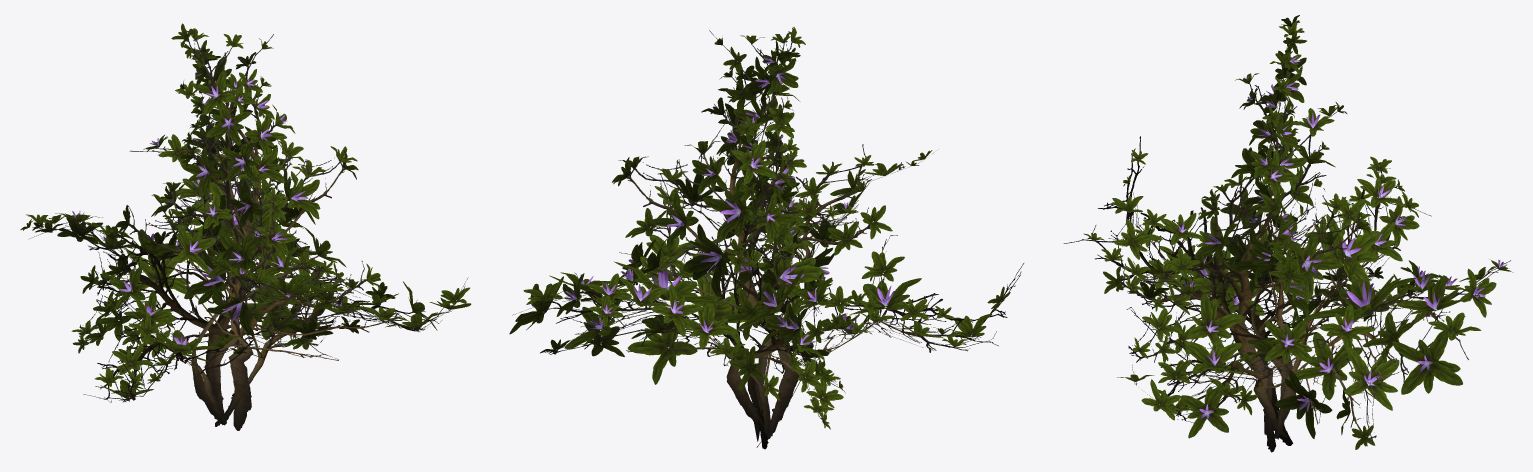
The model's file is bush_03.obj.
The picture shows the model from 3 angles, left to right: view 1: azimuth 30°, elevation 25°; view 2: azimuth 150°, elevation 25°; view 3: azimuth 270°, elevation 25°; orthographic projection. The views are drawn at different scales.
Visible parts, largest first — view 1: leaf, branches, flower; view 2: leaf, branches, flower; view 3: leaf, branches, flower.
Boxes of the visible parts, bbox=[...] form: leaf: bbox=[20, 23, 471, 398]; branches: bbox=[28, 34, 468, 430]; flower: bbox=[72, 67, 425, 345]; leaf: bbox=[509, 27, 1010, 429]; branches: bbox=[512, 30, 1023, 449]; flower: bbox=[531, 56, 895, 347]; leaf: bbox=[1083, 15, 1513, 449]; branches: bbox=[1063, 38, 1510, 452]; flower: bbox=[1178, 56, 1506, 420].
Bounding box in the file's own units: 95.03 × 102 × 99.83.
